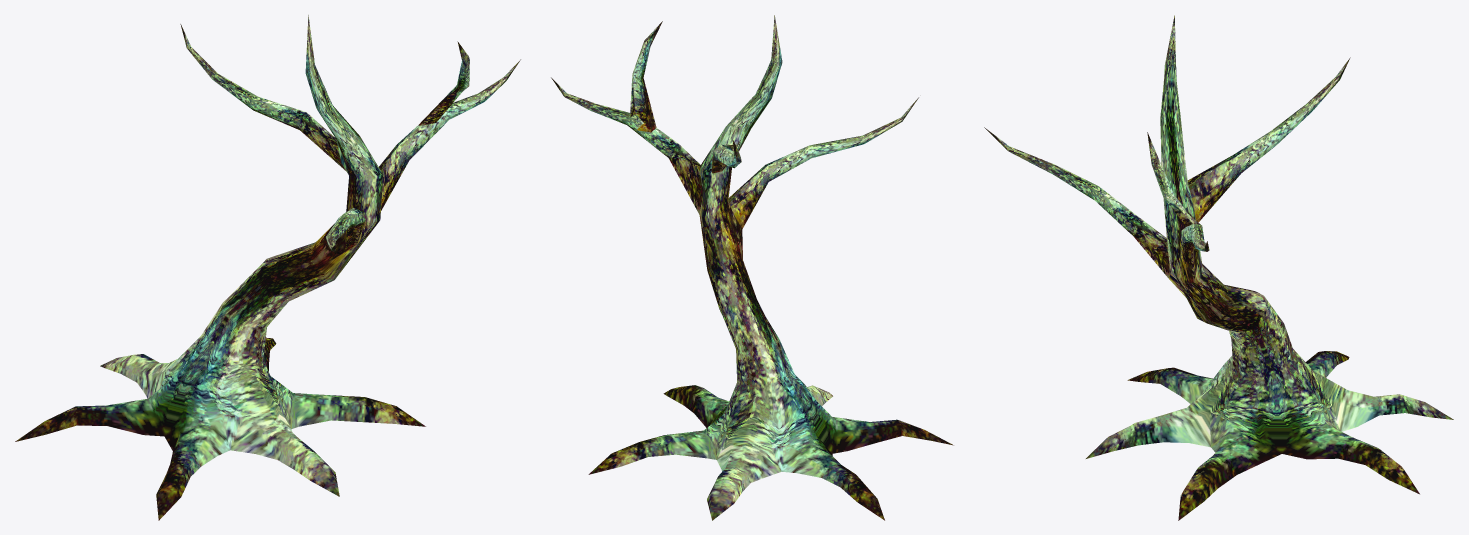
The model's file is a-tree-1.glb.
The picture shows the model from 3 angles, left to right: view 1: azimuth 30°, elevation 25°; view 2: azimuth 150°, elevation 25°; view 3: azimuth 270°, elevation 25°; orthographic projection. The views are drawn at different scales.
Parts seen in each view (by area): view 1: a_tree_1; view 2: a_tree_1; view 3: a_tree_1.
Part boxes in pixels (bbox=[...]): a_tree_1: bbox=[15, 15, 520, 520]; a_tree_1: bbox=[551, 15, 953, 520]; a_tree_1: bbox=[984, 15, 1453, 520].
Size of the model in its own units: 703 by 688 by 650.
1 material, 1 textured.
